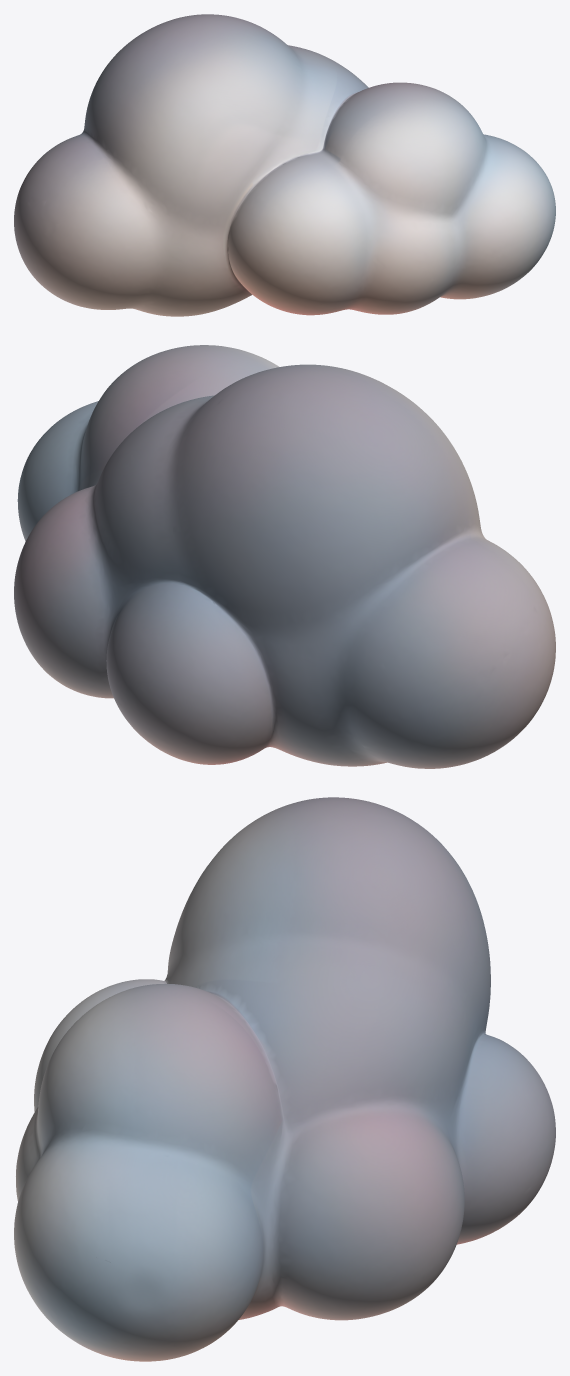
The model's file is cloud-double.glb.
3 renders of one model, top to bottom at view 1: azimuth 30°, elevation 25°; view 2: azimuth 150°, elevation 25°; view 3: azimuth 270°, elevation 25°, orthographic. The views are drawn at different scales.
Parts seen in each view (by area): view 1: node_0; view 2: node_0; view 3: node_0.
Boxes of the visible parts, box(x1,y1,x2,y2) form: node_0: box(14, 14, 555, 316); node_0: box(14, 345, 555, 768); node_0: box(14, 797, 555, 1361).
Size of the model in its own units: 1.06 by 0.6192 by 0.7553.
1 material, 1 textured.
